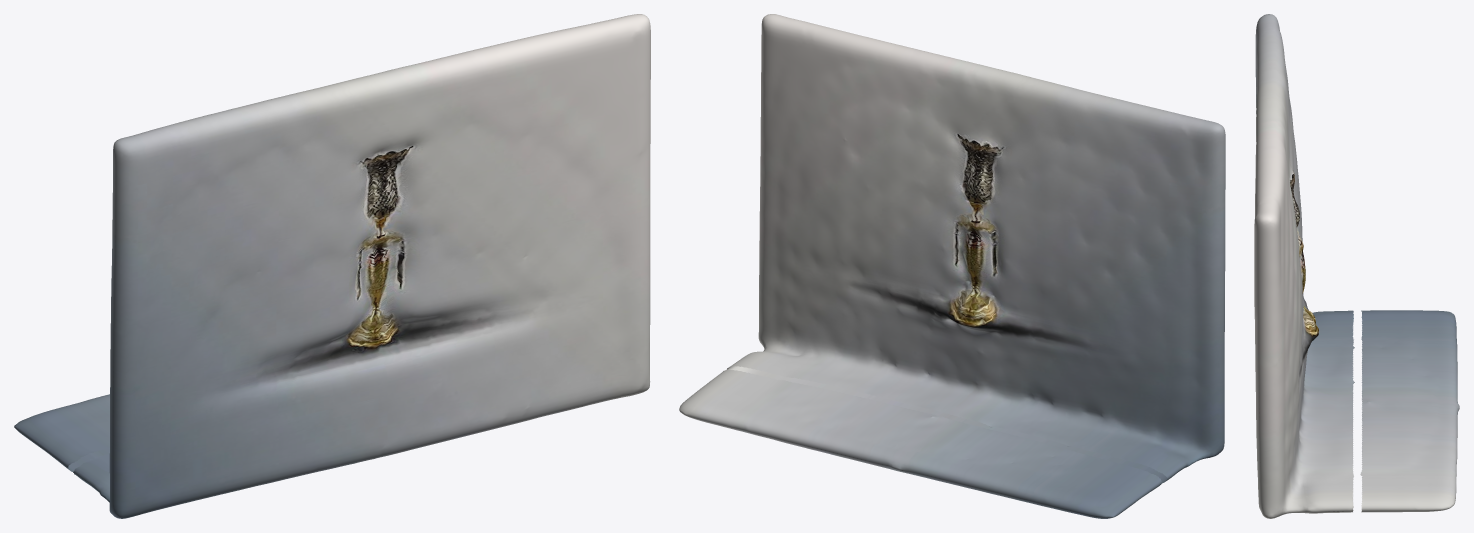
The model's file is kfl-2294.glb.
3 views of the same model, side by side, from view 1: azimuth 30°, elevation 25°; view 2: azimuth 150°, elevation 25°; view 3: azimuth 270°, elevation 25° (orthographic). The views are drawn at different scales.
Parts seen in each view (by area): view 1: geometry_0; view 2: geometry_0; view 3: geometry_0.
Part boxes in pixels (x1,y1,x2,y2): geometry_0: (14,14,650,518); geometry_0: (679,14,1225,518); geometry_0: (1254,14,1459,518).
Size of the model in its own units: 0.9946 by 0.6786 by 0.4138.
1 material, 1 textured.
